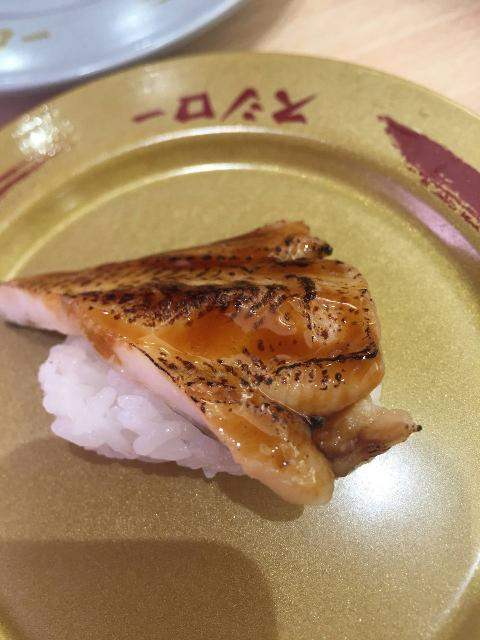jangold: (0, 76, 480, 640)
janwhite: (0, 0, 234, 74)
